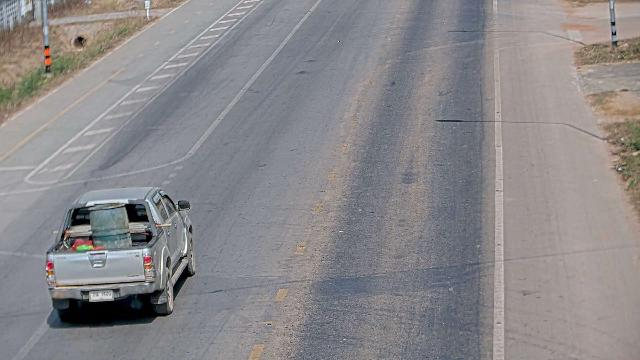pickup-truck: (44, 185, 196, 317)
